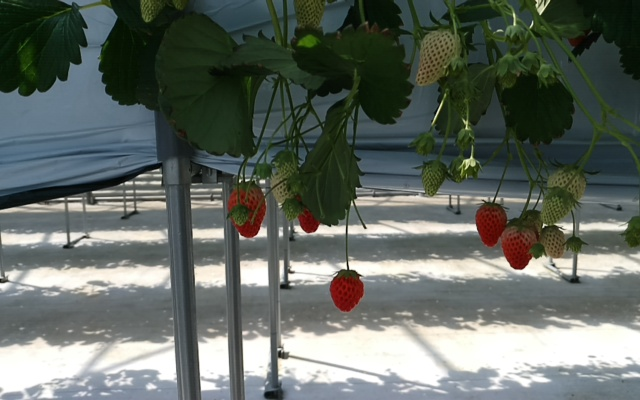GreenStrawberry: (414, 23, 465, 89), (268, 156, 302, 209), (546, 165, 588, 206), (539, 190, 576, 227), (537, 224, 569, 261), (419, 159, 449, 198), (281, 199, 297, 223), (232, 207, 249, 226)
MatureStrawberry: (229, 179, 269, 241), (501, 218, 539, 271), (474, 199, 508, 250), (329, 269, 364, 312), (297, 206, 322, 235)
